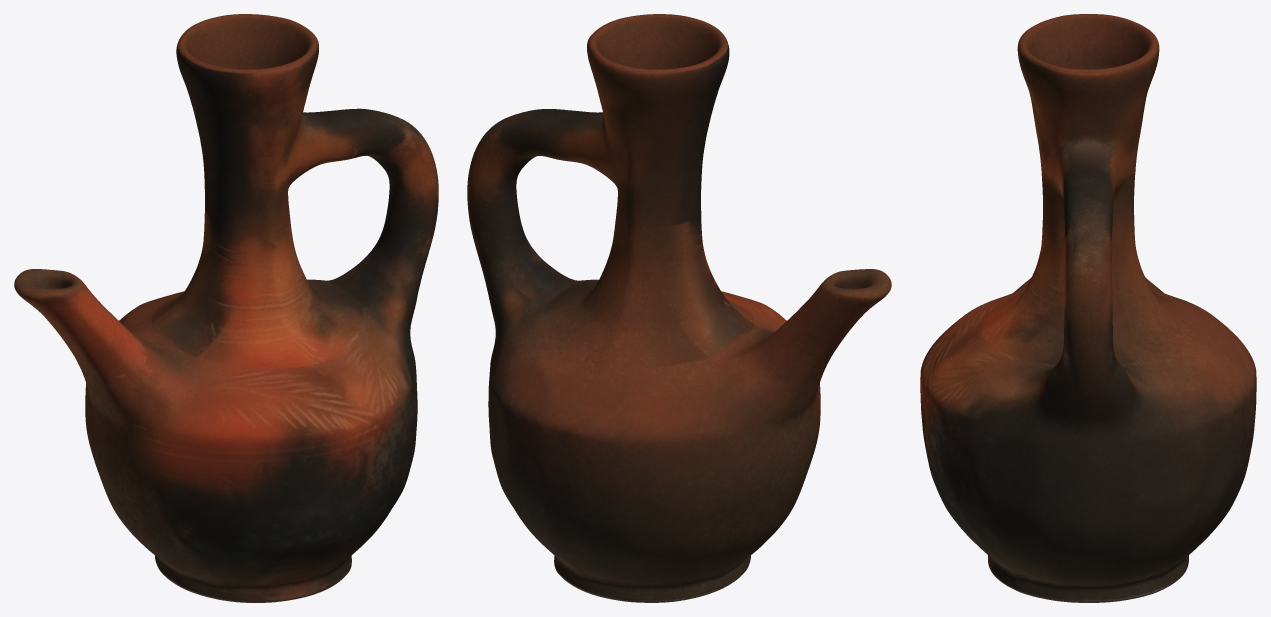
The model's file is clay_vessel_optimized.glb.
3 views of the same model, side by side, from view 1: azimuth 30°, elevation 25°; view 2: azimuth 150°, elevation 25°; view 3: azimuth 270°, elevation 25° (orthographic).
Parts seen in each view (by area): view 1: Meshy_AI_Burnished_Clay_Vessel_0919172142_texture; view 2: Meshy_AI_Burnished_Clay_Vessel_0919172142_texture; view 3: Meshy_AI_Burnished_Clay_Vessel_0919172142_texture.
Part boxes in pixels (left/top/right/bottom): Meshy_AI_Burnished_Clay_Vessel_0919172142_texture: left=14, top=14, right=438, bottom=602; Meshy_AI_Burnished_Clay_Vessel_0919172142_texture: left=467, top=14, right=891, bottom=602; Meshy_AI_Burnished_Clay_Vessel_0919172142_texture: left=920, top=14, right=1256, bottom=602.
Bounding box in the file's own units: 1.58 × 1.9 × 1.11.
Materials: 1 (1 with a texture image).
